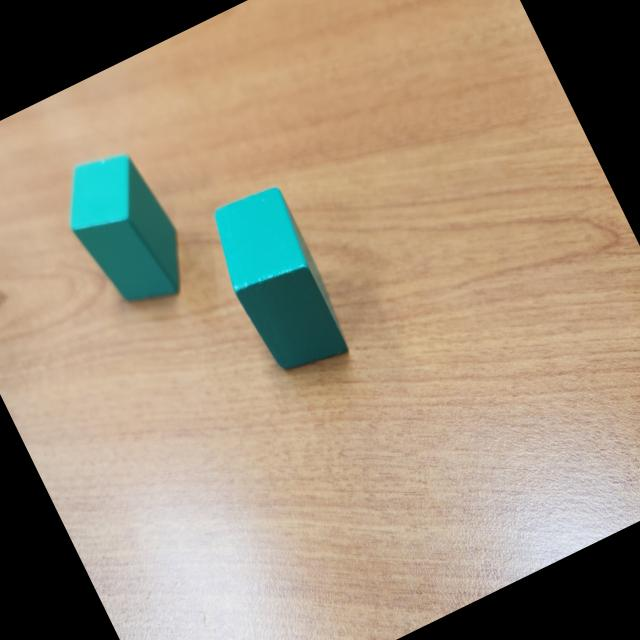green: (197, 178, 356, 382), (47, 138, 201, 322)
